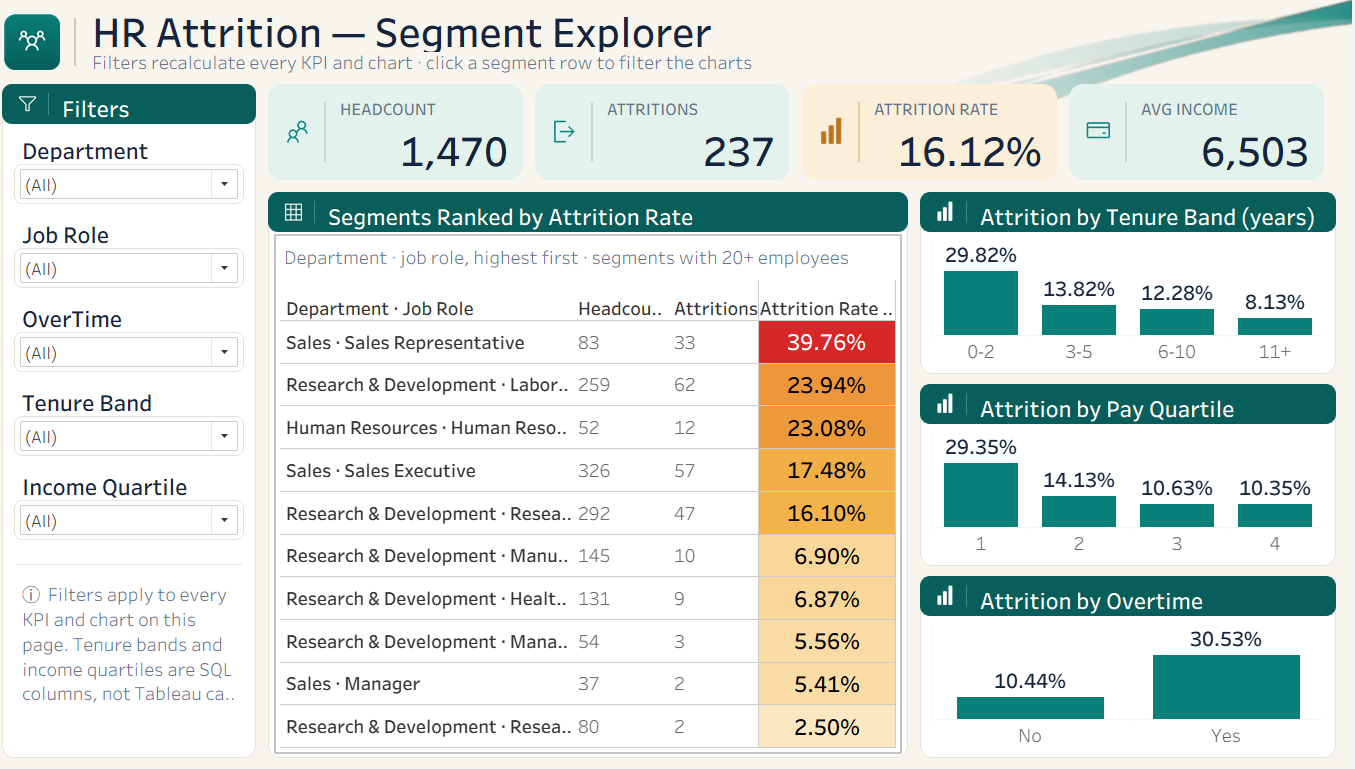

The page's visual inventory and layout, read from the dashboard file:
{"tool":"tableau","page":{"name":"Segment Explorer","canvas":[1366,768],"ordinal":1},"visuals":[{"type":"image","param":"Image/header_wave.png","box":[866,0,500,116]},{"type":"text","box":[100,10,820,42]},{"type":"image","param":"Image/logo_group.png","box":[18,14,56,56]},{"type":"blank","box":[88,18,2,48]},{"type":"text","box":[100,50,900,24]},{"type":"blank","box":[16,84,254,674]},{"type":"blank","box":[16,84,254,40]},{"type":"blank","box":[282,84,255,96]},{"type":"blank","box":[549,84,255,96]},{"type":"blank","box":[816,84,255,96]},{"type":"blank","box":[1083,84,255,96]},{"type":"worksheet","title":"KPI Headcount","mark":"Circle","box":[346,90,183,84]},{"type":"worksheet","title":"KPI Attritions","mark":"Circle","box":[613,90,183,84]},{"type":"worksheet","title":"KPI Attrition Rate","mark":"Circle","box":[880,90,183,84]},{"type":"worksheet","title":"KPI Avg Income","mark":"Circle","box":[1147,90,183,84]},{"type":"text","box":[70,91,190,34]},{"type":"image","param":"Image/ic_filter.png","box":[30,93,22,22]},{"type":"blank","box":[62,93,1,22]},{"type":"blank","box":[338,102,2,60]},{"type":"blank","box":[605,102,2,60]},{"type":"blank","box":[872,102,2,60]},{"type":"blank","box":[1139,102,2,60]},{"type":"image","param":"Image/kpi_people.png","box":[296,117,30,30]},{"type":"image","param":"Image/kpi_exit.png","box":[563,117,30,30]},{"type":"image","param":"Image/kpi_bars_amber.png","box":[830,117,30,30]},{"type":"image","param":"Image/kpi_card.png","box":[1097,117,30,30]},{"type":"text","box":[30,138,226,24]},{"type":"filter","title":"KPI Headcount","param":"[federated.hrattr01enriched].[none:Department:nk]","box":[28,164,230,40]},{"type":"blank","box":[282,192,640,566]},{"type":"blank","box":[282,192,640,40]},{"type":"blank","box":[934,192,416,182]},{"type":"blank","box":[934,192,416,40]},{"type":"text","box":[336,199,576,34]},{"type":"text","box":[988,199,352,34]},{"type":"image","param":"Image/ic_table.png","box":[296,201,22,22]},{"type":"blank","box":[328,201,1,22]},{"type":"image","param":"Image/ic_bars.png","box":[948,201,22,22]},{"type":"blank","box":[980,201,1,22]},{"type":"text","box":[30,222,226,24]},{"type":"worksheet","title":"Ranked Segments","mark":"Square","rows":["Calculation_9100000000000008","Calculation_9100000000000001","Calculation_9100000000000002"],"box":[290,236,624,516]},{"type":"worksheet","title":"Explorer Tenure Band","mark":"Bar","rows":["Calculation_9100000000000003"],"cols":["TenureBand"],"box":[942,236,400,132]},{"type":"filter","title":"KPI Headcount","param":"[federated.hrattr01enriched].[none:JobRole:nk]","box":[28,248,230,40]},{"type":"text","box":[30,306,226,24]},{"type":"filter","title":"KPI Headcount","param":"[federated.hrattr01enriched].[none:OverTime:nk]","box":[28,332,230,40]},{"type":"blank","box":[934,384,416,182]},{"type":"blank","box":[934,384,416,40]},{"type":"text","box":[30,390,226,24]},{"type":"text","box":[988,391,352,34]},{"type":"image","param":"Image/ic_bars.png","box":[948,393,22,22]},{"type":"blank","box":[980,393,1,22]},{"type":"filter","title":"KPI Headcount","param":"[federated.hrattr01enriched].[none:TenureBand:nk]","box":[28,416,230,40]},{"type":"worksheet","title":"Explorer Income Quartile","mark":"Bar","rows":["Calculation_9100000000000003"],"cols":["IncomeQuartile"],"box":[942,428,400,132]},{"type":"text","box":[30,474,226,24]},{"type":"filter","title":"KPI Headcount","param":"[federated.hrattr01enriched].[none:IncomeQuartile:ok]","box":[28,500,230,40]},{"type":"blank","box":[30,564,226,1]},{"type":"text","box":[30,574,226,140]},{"type":"blank","box":[934,576,416,182]},{"type":"blank","box":[934,576,416,40]},{"type":"text","box":[988,583,352,34]},{"type":"image","param":"Image/ic_bars.png","box":[948,585,22,22]},{"type":"blank","box":[980,585,1,22]},{"type":"worksheet","title":"Explorer Overtime","mark":"Bar","rows":["Calculation_9100000000000003"],"cols":["OverTime"],"box":[942,620,400,132]}]}

Visuals, with their boxes in screenshot pixels (x1, y1, x2, y2), scaled from the page's 1366x768 canvas onto the 1355x769 screenshot:
image: box(859, 0, 1354, 116)
text: box(99, 10, 913, 52)
image: box(18, 14, 73, 70)
blank: box(87, 18, 89, 66)
text: box(99, 50, 992, 74)
blank: box(16, 84, 268, 759)
blank: box(16, 84, 268, 124)
blank: box(280, 84, 533, 180)
blank: box(545, 84, 798, 180)
blank: box(809, 84, 1062, 180)
blank: box(1074, 84, 1327, 180)
"KPI Headcount" worksheet (Circle marks): box(343, 90, 525, 174)
"KPI Attritions" worksheet (Circle marks): box(608, 90, 790, 174)
"KPI Attrition Rate" worksheet (Circle marks): box(873, 90, 1054, 174)
"KPI Avg Income" worksheet (Circle marks): box(1138, 90, 1319, 174)
text: box(69, 91, 258, 125)
image: box(30, 93, 52, 115)
blank: box(335, 102, 337, 162)
blank: box(600, 102, 602, 162)
blank: box(865, 102, 867, 162)
blank: box(1130, 102, 1132, 162)
image: box(294, 117, 323, 147)
image: box(558, 117, 588, 147)
image: box(823, 117, 853, 147)
image: box(1088, 117, 1118, 147)
text: box(30, 138, 254, 162)
"KPI Headcount" filter: box(28, 164, 256, 204)
blank: box(280, 192, 915, 759)
blank: box(280, 192, 915, 232)
blank: box(926, 192, 1339, 374)
blank: box(926, 192, 1339, 232)
text: box(333, 199, 905, 233)
text: box(980, 199, 1329, 233)
image: box(294, 201, 315, 223)
blank: box(325, 201, 326, 223)
image: box(940, 201, 962, 223)
blank: box(972, 201, 973, 223)
text: box(30, 222, 254, 246)
"Ranked Segments" worksheet (Square marks): box(288, 236, 907, 753)
"Explorer Tenure Band" worksheet (Bar marks): box(934, 236, 1331, 368)
"KPI Headcount" filter: box(28, 248, 256, 288)
text: box(30, 306, 254, 330)
"KPI Headcount" filter: box(28, 332, 256, 372)
blank: box(926, 384, 1339, 567)
blank: box(926, 384, 1339, 425)
text: box(30, 391, 254, 415)
text: box(980, 392, 1329, 426)
image: box(940, 394, 962, 416)
blank: box(972, 394, 973, 416)
"KPI Headcount" filter: box(28, 417, 256, 457)
"Explorer Income Quartile" worksheet (Bar marks): box(934, 429, 1331, 561)
text: box(30, 475, 254, 499)
"KPI Headcount" filter: box(28, 501, 256, 541)
blank: box(30, 565, 254, 566)
text: box(30, 575, 254, 715)
blank: box(926, 577, 1339, 759)
blank: box(926, 577, 1339, 617)
text: box(980, 584, 1329, 618)
image: box(940, 586, 962, 608)
blank: box(972, 586, 973, 608)
"Explorer Overtime" worksheet (Bar marks): box(934, 621, 1331, 753)
